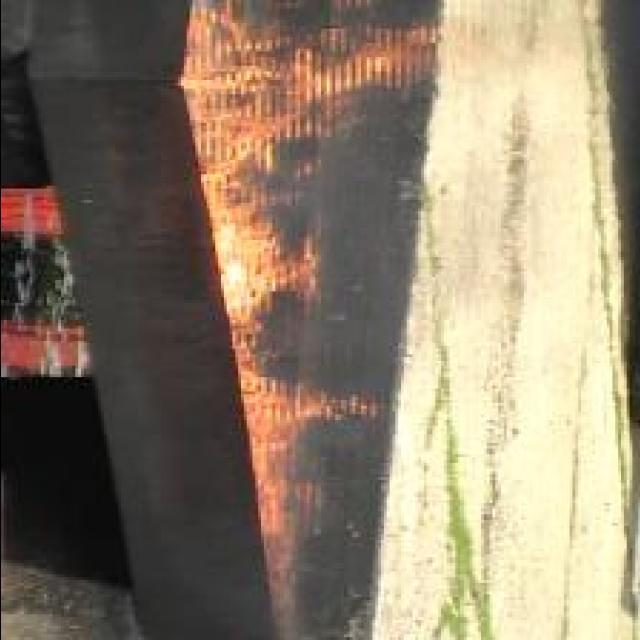Fire: (180, 0, 497, 617)
